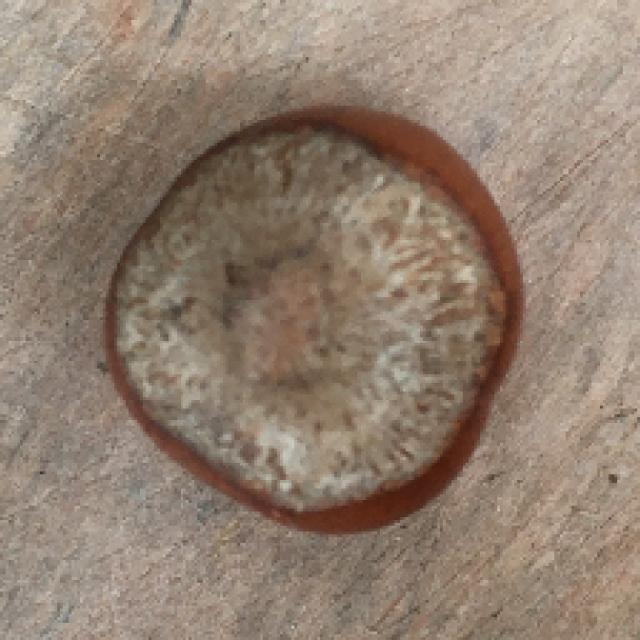QualityHazelnut: (94, 105, 524, 543)
